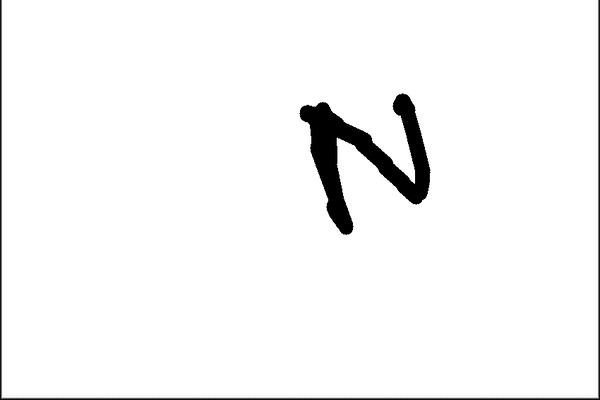N: (293, 86, 439, 239)
